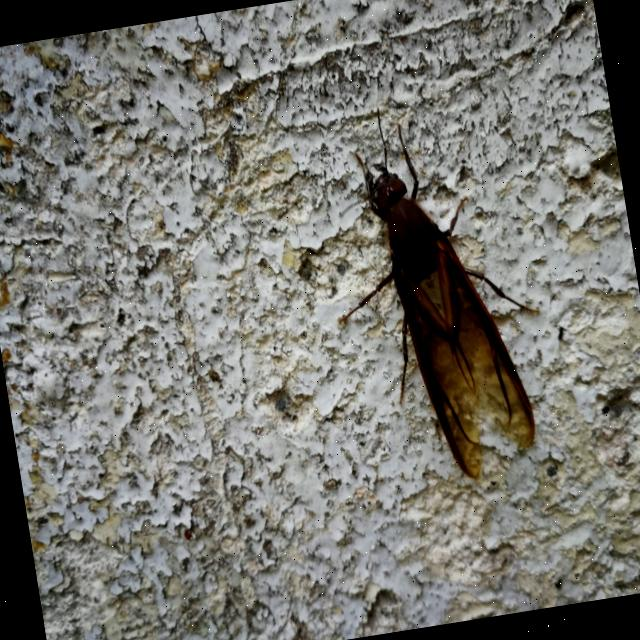Alive-Male-Alate: (304, 87, 564, 497)
